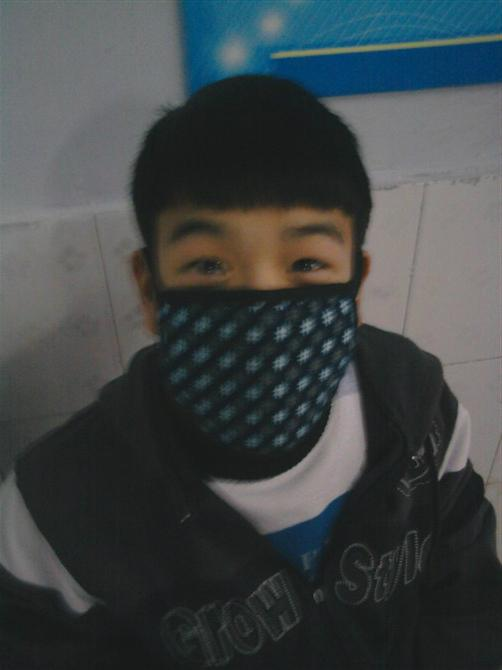OK: (145, 203, 368, 426)
